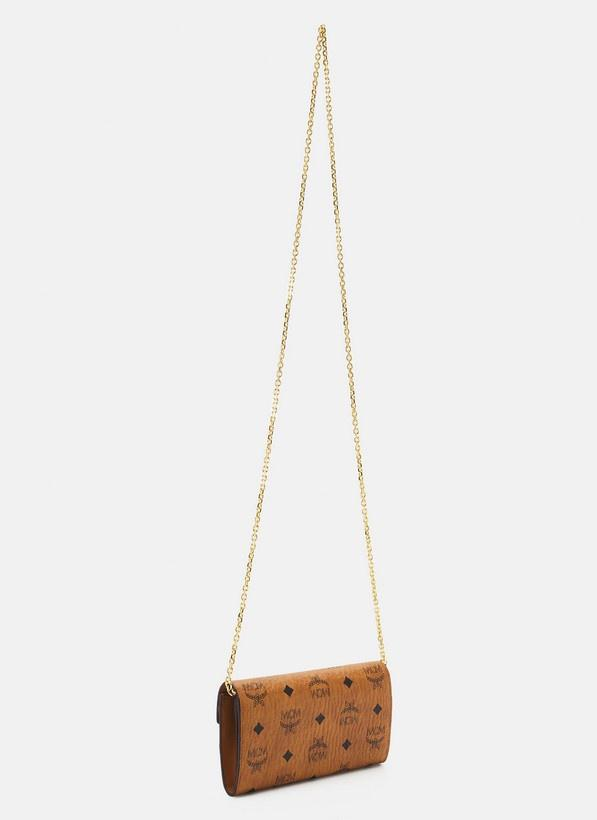MCM: (216, 656, 390, 794)
